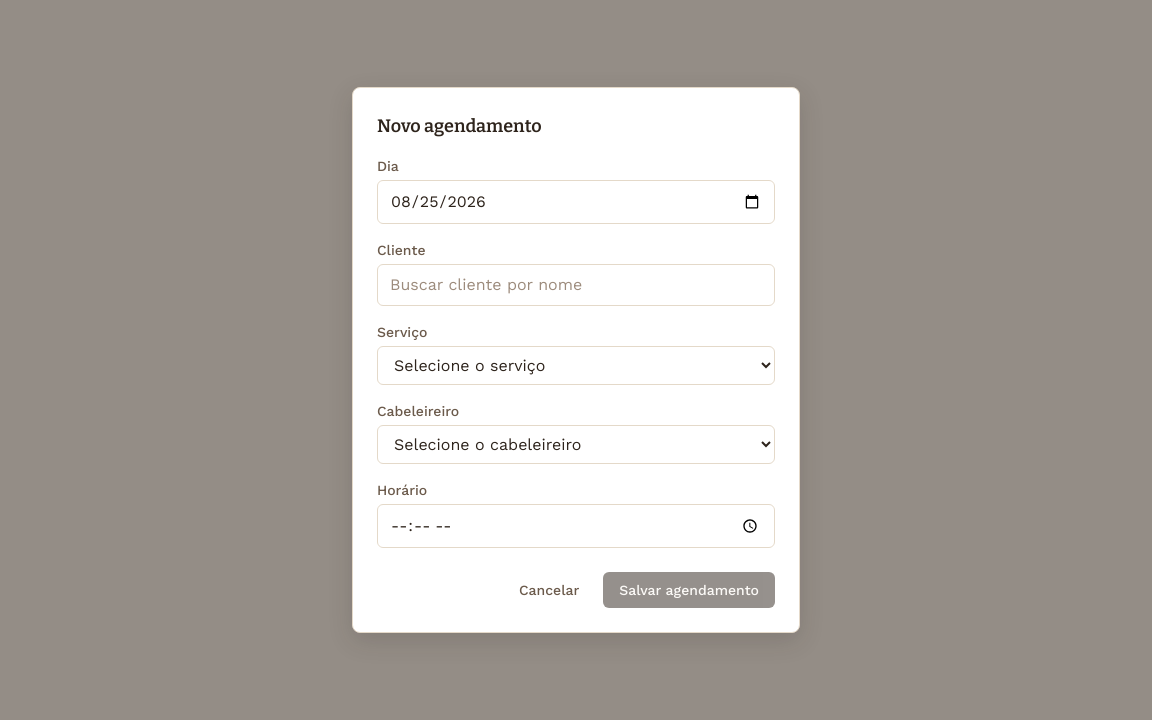
Scenario: AppointmentFormModal › shows client suggestions in the same field while typing and selects one on click
Type "João" into the field labelled "Cliente" at (576, 285), box [377,264,775,306]
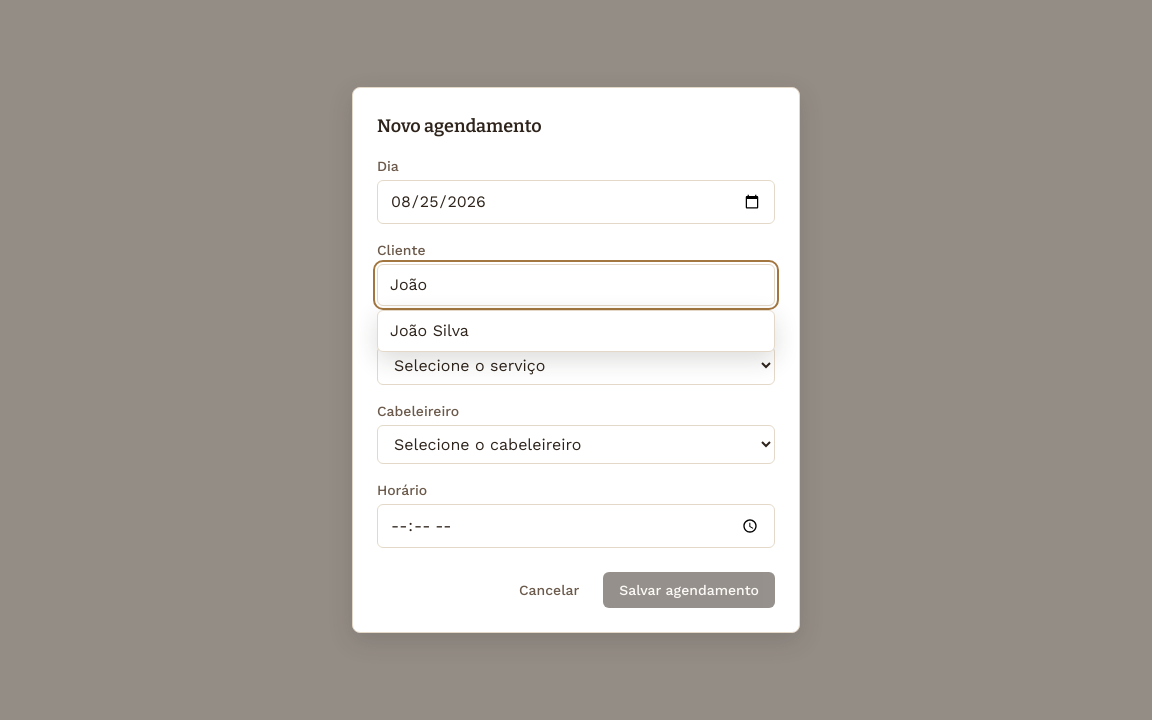
Click the option "João Silva" at (429, 330), box [378,311,774,351]
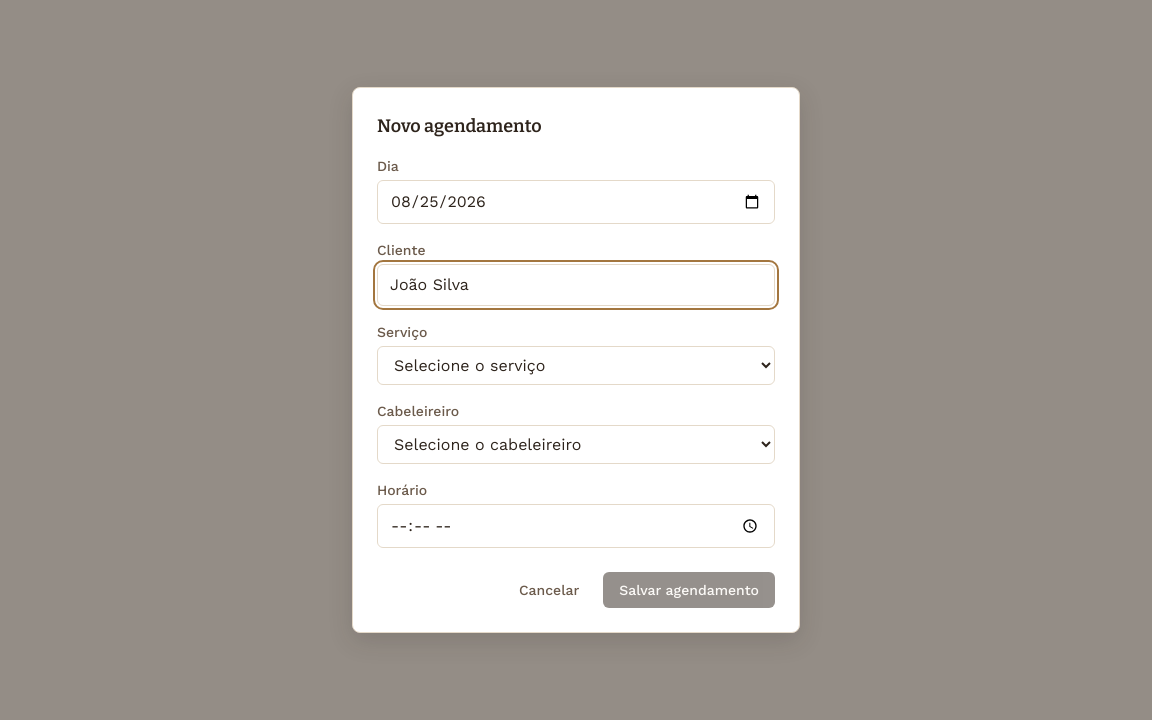
expect the field labelled "Cliente" holds "João Silva": met, box [377,264,775,306]
